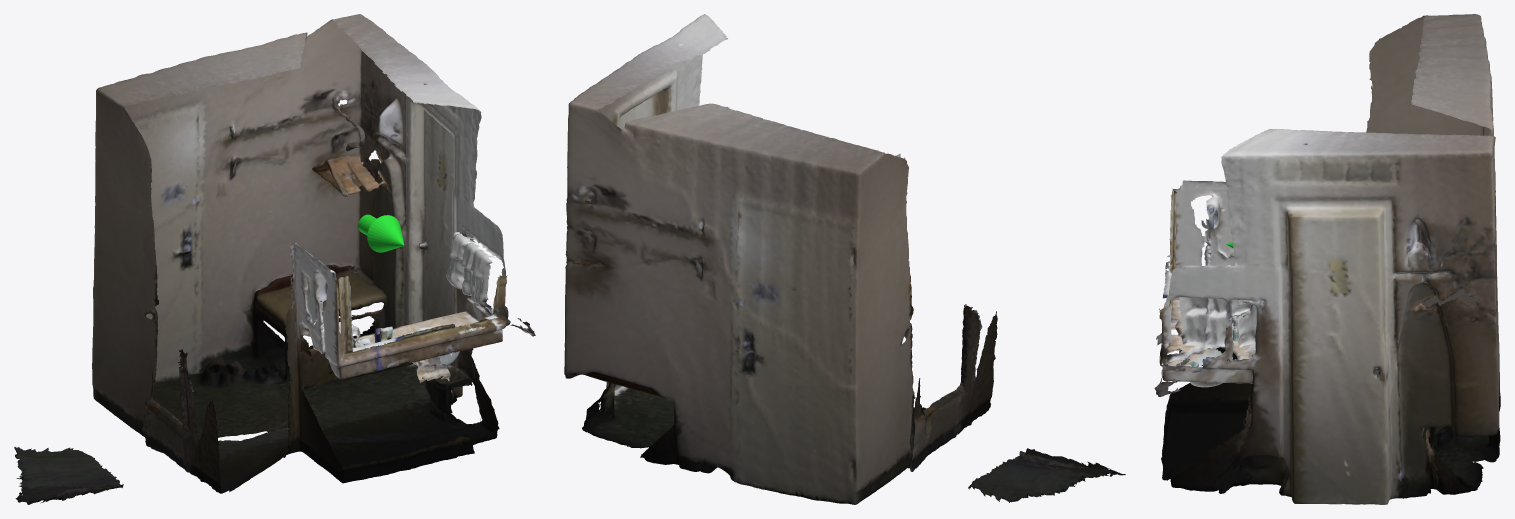
The model's file is situation_0.glb.
The picture shows the model from 3 angles, left to right: view 1: azimuth 30°, elevation 25°; view 2: azimuth 150°, elevation 25°; view 3: azimuth 270°, elevation 25°; orthographic projection. The views are drawn at different scales.
Visible parts, largest first — view 1: scene0574_00_vh_clean_2, Cone.001; view 2: scene0574_00_vh_clean_2; view 3: scene0574_00_vh_clean_2.
Part boxes in pixels (x1,y1,x2,y2): scene0574_00_vh_clean_2: (14, 14, 535, 504); Cone.001: (367, 215, 404, 252); scene0574_00_vh_clean_2: (564, 14, 1125, 504); scene0574_00_vh_clean_2: (1154, 14, 1500, 504).
Bounding box in the file's own units: 7.99 × 5.49 × 4.83.
